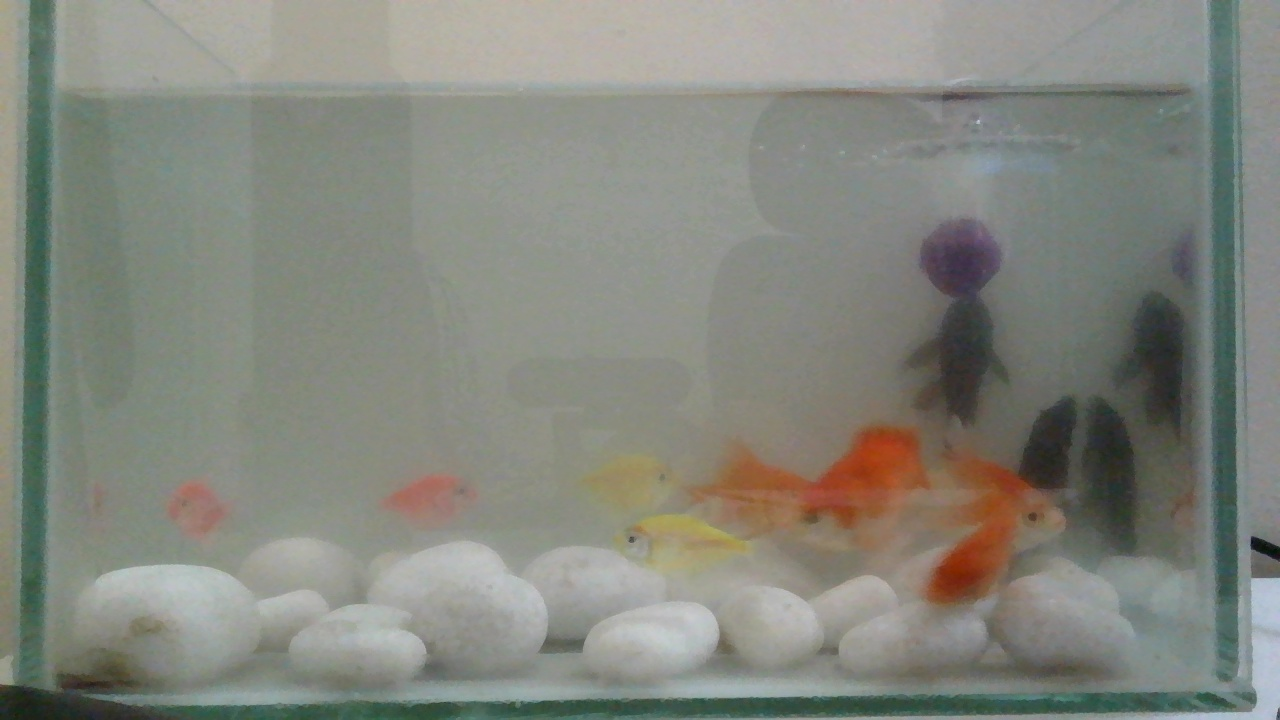fish: (916, 457, 1065, 608)
